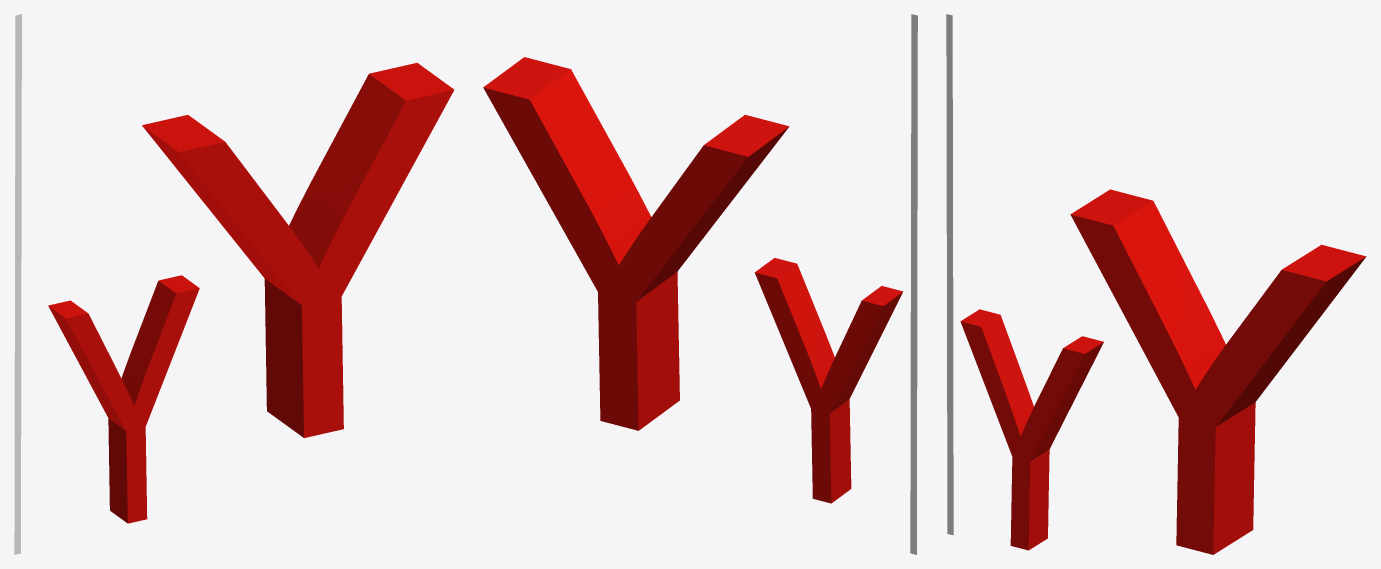
3 views of the same model, side by side, from view 1: azimuth 30°, elevation 25°; view 2: azimuth 150°, elevation 25°; view 3: azimuth 330°, elevation 25° (orthographic). The views are drawn at different scales.
Parts seen in each view (by area): view 1: uploads_files_1950256_Y, uploads_files_1950256_Y.001, Плоскость; view 2: uploads_files_1950256_Y, uploads_files_1950256_Y.001, Плоскость; view 3: uploads_files_1950256_Y, uploads_files_1950256_Y.001, Плоскость.
Boxes of the visible parts, <box> form: uploads_files_1950256_Y: <box>142,63,454,437</box>; uploads_files_1950256_Y.001: <box>48,275,199,523</box>; Плоскость: <box>14,14,21,554</box>; uploads_files_1950256_Y: <box>483,57,789,430</box>; uploads_files_1950256_Y.001: <box>754,258,903,503</box>; Плоскость: <box>910,14,917,554</box>; uploads_files_1950256_Y: <box>1070,189,1366,554</box>; uploads_files_1950256_Y.001: <box>960,309,1103,550</box>; Плоскость: <box>946,14,953,535</box>.
Size of the model in its own units: 7.62 by 9.38 by 1.5.
